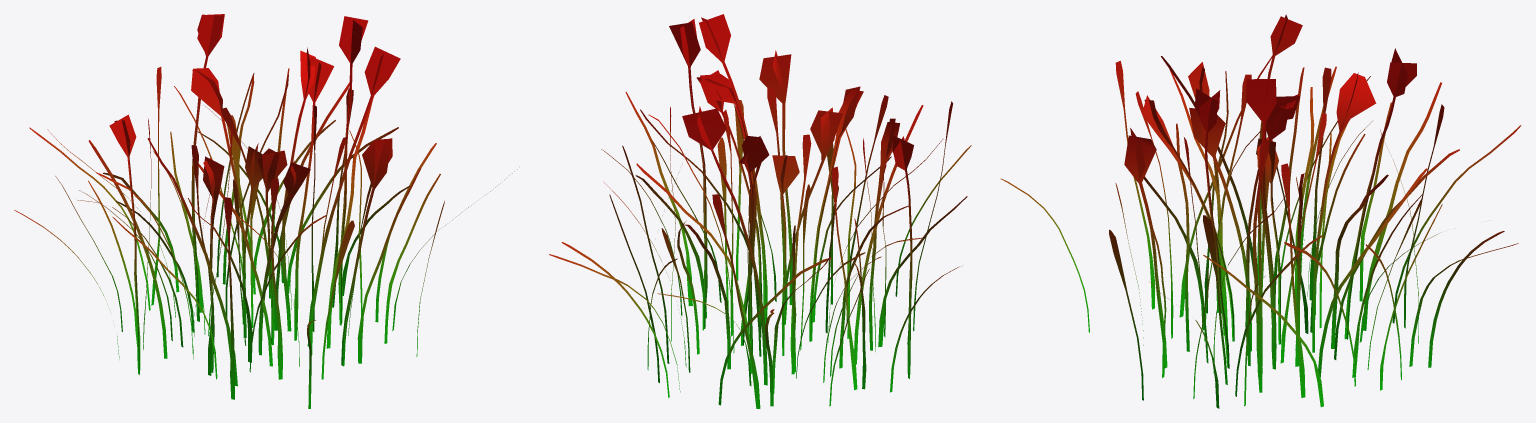
Rendered from Cotton Grass_LOD3_Var1_wlykecdia.fbx.
3 renders of one model, left to right at view 1: azimuth 30°, elevation 25°; view 2: azimuth 150°, elevation 25°; view 3: azimuth 270°, elevation 25°, orthographic. The views are drawn at different scales.
Visible parts, largest first — view 1: _mwqx_Var1_LOD3; view 2: _mwqx_Var1_LOD3; view 3: _mwqx_Var1_LOD3.
Boxes of the visible parts, bbox=[...] form: _mwqx_Var1_LOD3: bbox=[14, 14, 514, 408]; _mwqx_Var1_LOD3: bbox=[549, 14, 971, 408]; _mwqx_Var1_LOD3: bbox=[1000, 14, 1521, 408].
Size of the model in its own units: 35.45 by 24.59 by 35.39.
